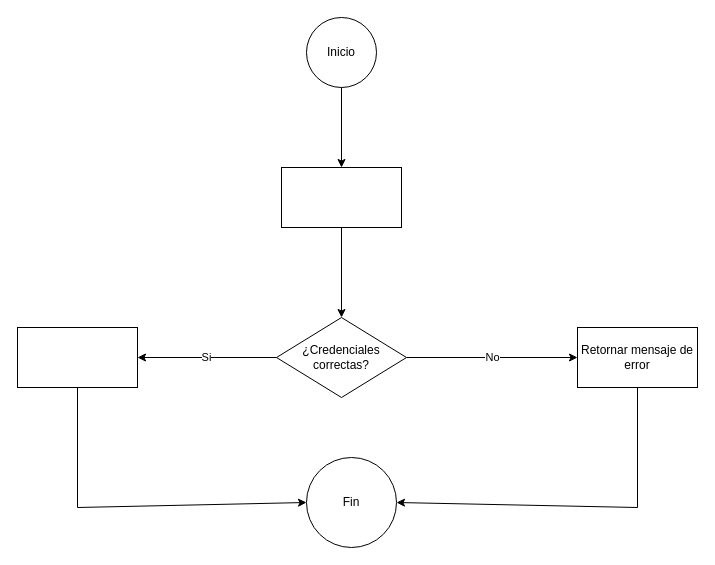
Some shapes in this 715 by 565 pixel diagram are drawn without their labels. Each missing label, with the box of its shape:
Generar código de 2fa: (16, 326, 138, 388)
Ingreso de Credenciales: (280, 166, 402, 228)
